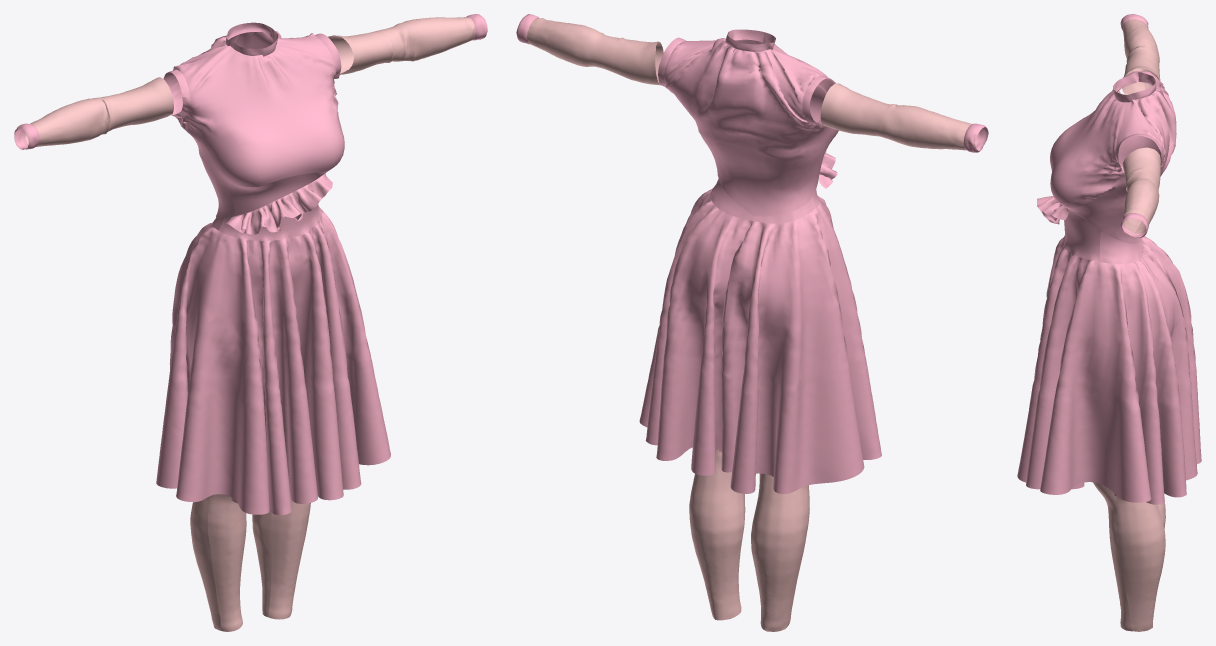
File: G_pink_dress.glb
3 views of the same model, side by side, from view 1: azimuth 30°, elevation 25°; view 2: azimuth 150°, elevation 25°; view 3: azimuth 270°, elevation 25° (orthographic). The views are drawn at different scales.
Parts seen in each view (by area): view 1: Garment; view 2: Garment; view 3: Garment.
Part boxes in pixels (x1,y1,x2,y2): Garment: [14, 14, 487, 631]; Garment: [516, 14, 988, 631]; Garment: [1017, 14, 1201, 631].
Size of the model in its own units: 1.09 by 1.33 by 0.4139.
Materials: 1 (1 with a texture image).
